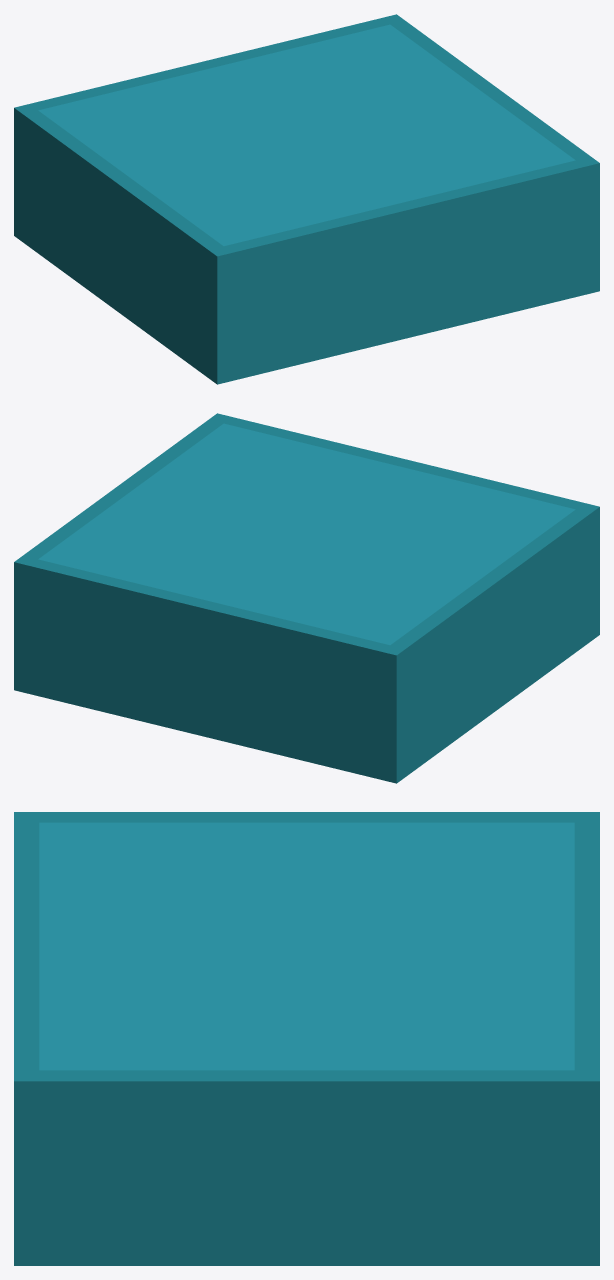
The model's file is ice steps.gltf.
The picture shows the model from 3 angles, top to bottom: view 1: azimuth 30°, elevation 25°; view 2: azimuth 150°, elevation 25°; view 3: azimuth 270°, elevation 25°; orthographic projection. The views are drawn at different scales.
Visible parts, largest first — view 1: Layer.1; view 2: Layer.1; view 3: Layer.1.
Boxes of the visible parts, <box> form: Layer.1: <box>14,14,599,384</box>; Layer.1: <box>14,413,599,783</box>; Layer.1: <box>14,812,599,1265</box>.
Bounding box in the file's own units: 25 × 8 × 23.
Materials: 1 (1 with a texture image).
